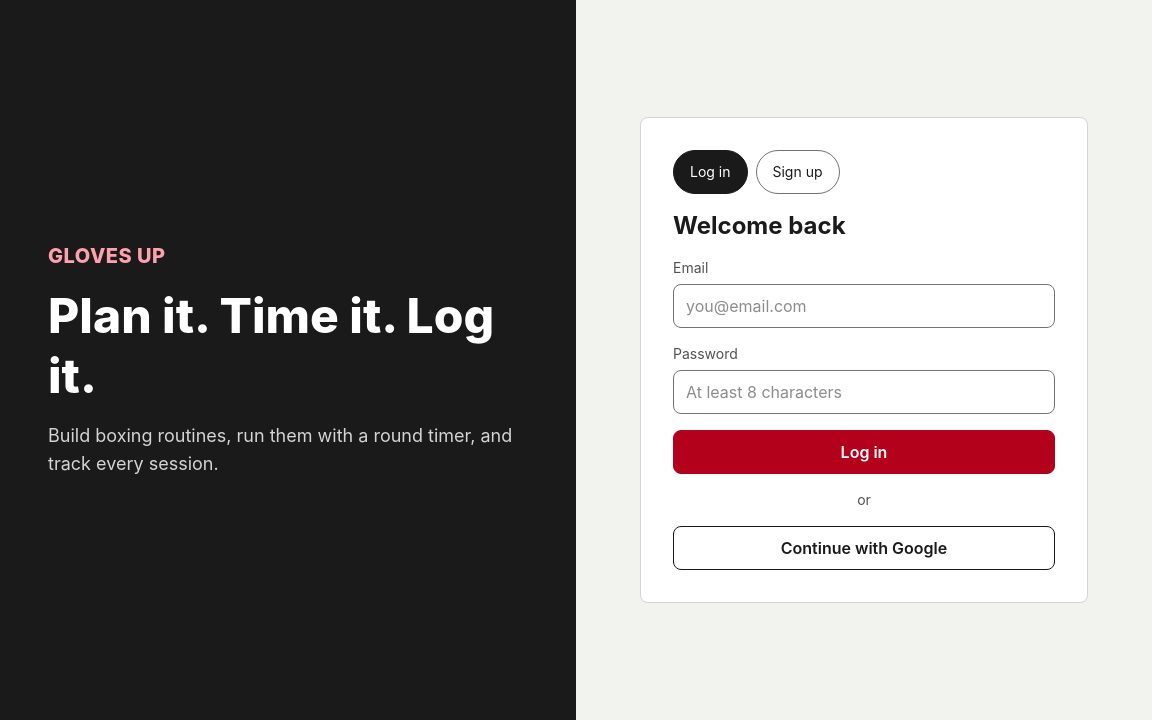
Test: Login page › switches to the sign up form
Click the button "Sign up" at [798, 172], box [756,150,840,194]
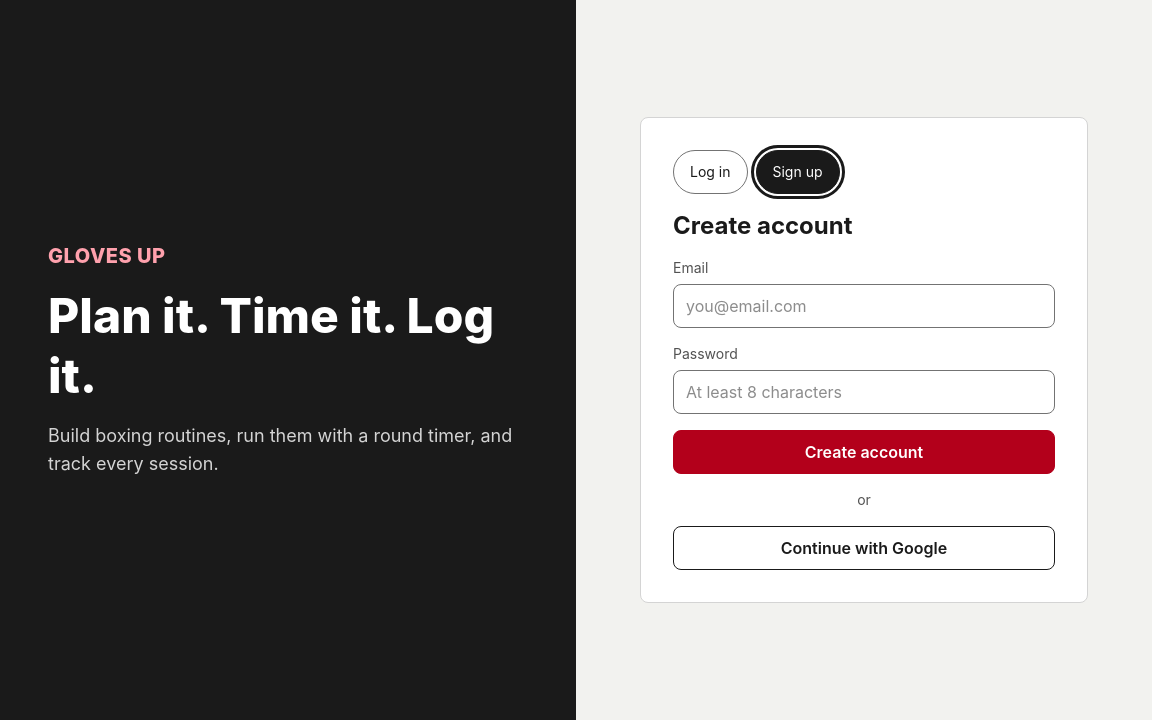
Check: the heading "Create account" is shown, box [673,211,852,240]
